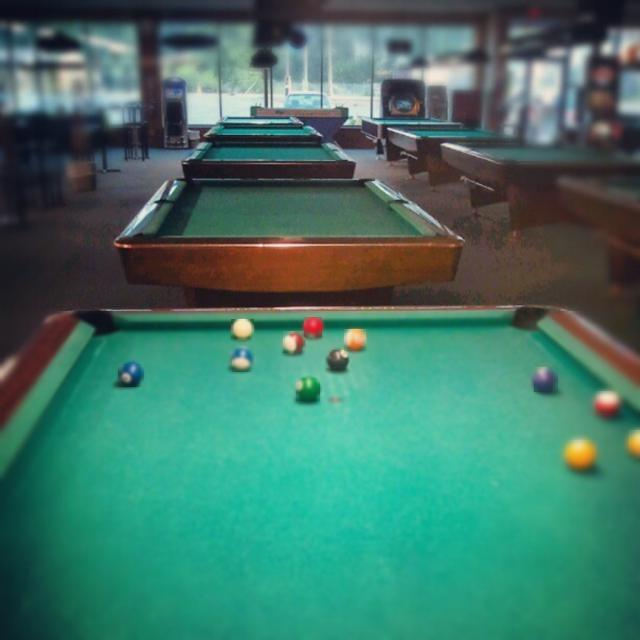Ball: (566, 440, 596, 469), (534, 367, 558, 392), (118, 364, 144, 387), (232, 346, 254, 372), (296, 378, 320, 401), (596, 392, 620, 414), (326, 350, 352, 370), (344, 329, 366, 352), (283, 332, 305, 354), (231, 320, 254, 340), (304, 318, 322, 338), (629, 431, 640, 458)
Billiard table: (0, 311, 639, 640)
